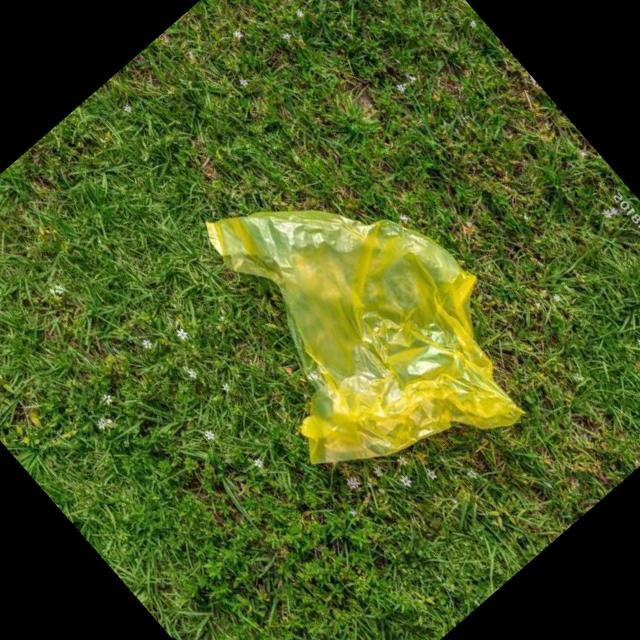KantongPlastik: (145, 108, 568, 541)
